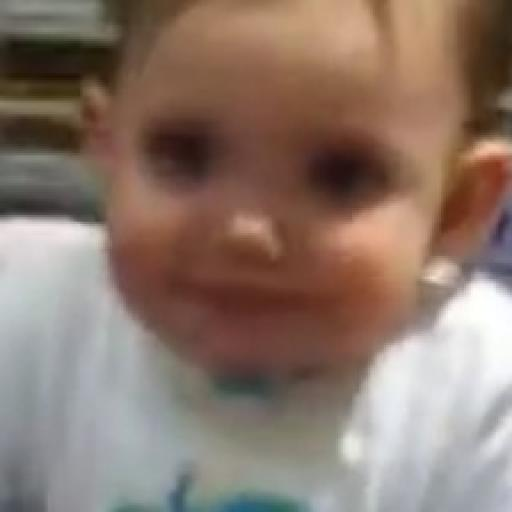Autism: (76, 30, 475, 466)
